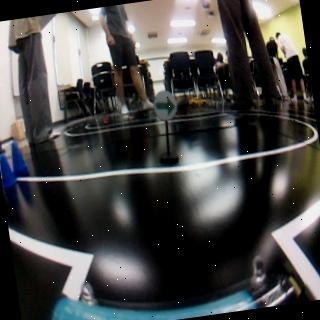right: (152, 90, 178, 120)
